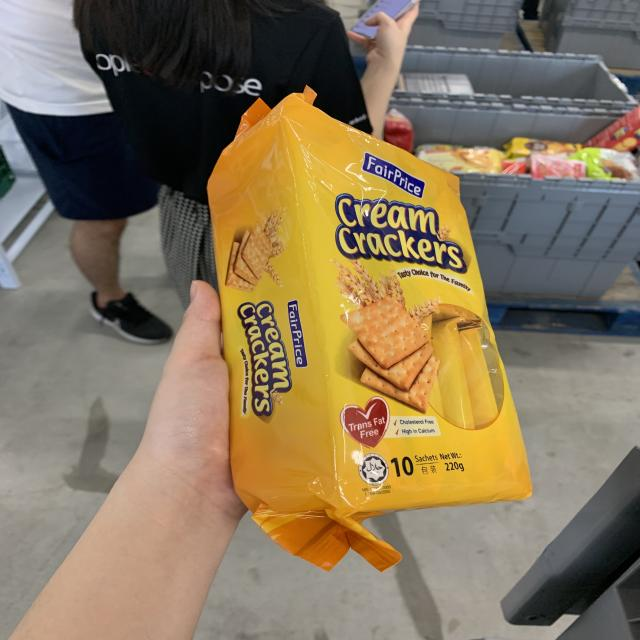object_name: (212, 126, 529, 506)
